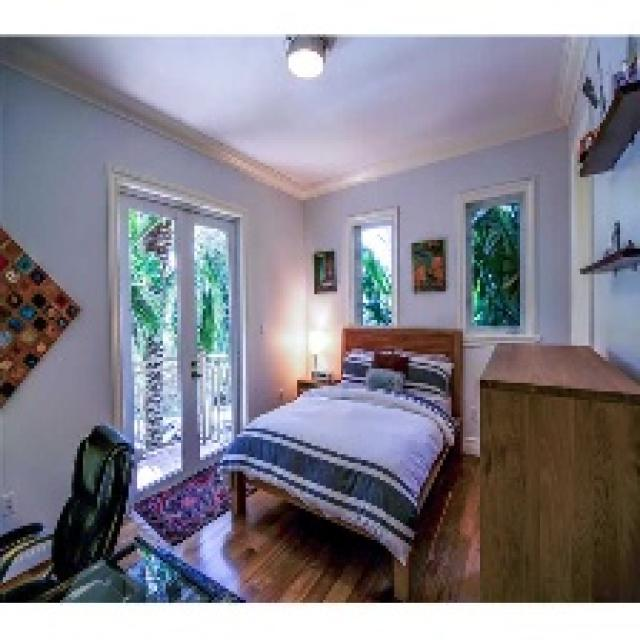Bed: (217, 326, 463, 600)
